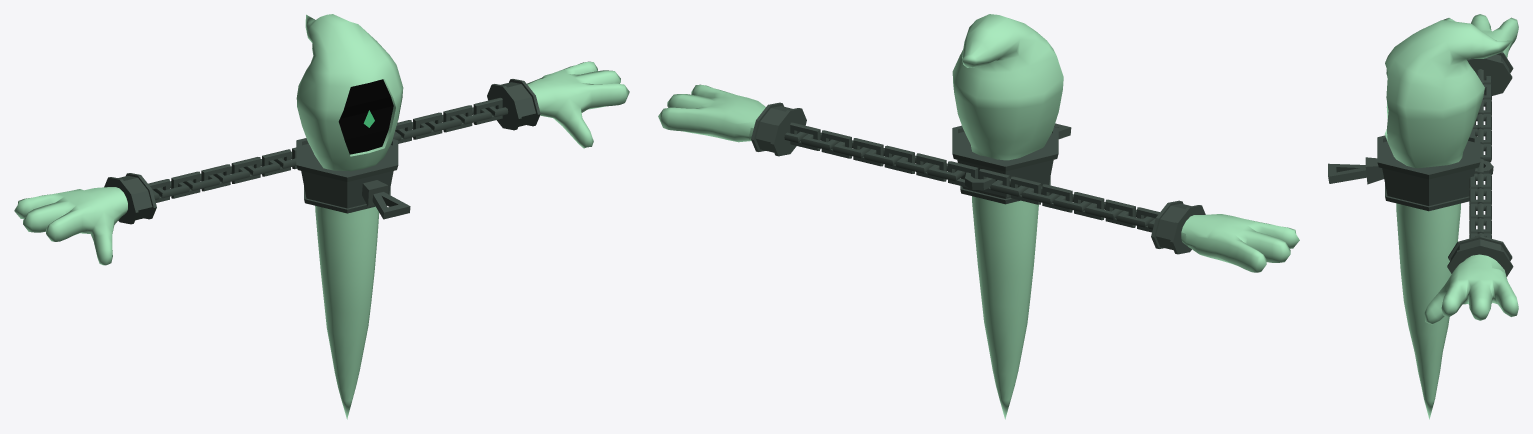
The model's file is Chains_Ghost_V3.fbx.
3 renders of one model, left to right at view 1: azimuth 30°, elevation 25°; view 2: azimuth 150°, elevation 25°; view 3: azimuth 270°, elevation 25°, orthographic. The views are drawn at different scales.
Parts seen in each view (by area): view 1: Chain_Ghost; view 2: Chain_Ghost; view 3: Chain_Ghost.
Boxes of the visible parts, x1,y1,x2,y2 form: Chain_Ghost: [14, 14, 629, 419]; Chain_Ghost: [658, 14, 1299, 419]; Chain_Ghost: [1328, 14, 1518, 419].
Bounding box in the file's own units: 562 × 352 × 154.
